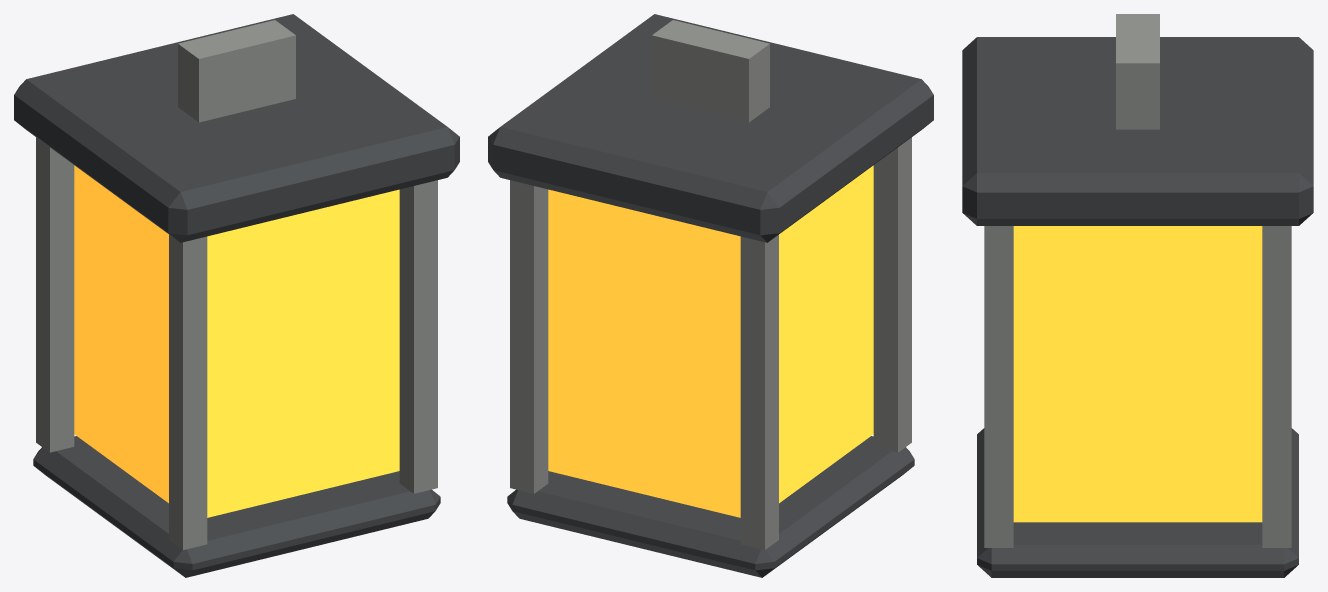
The model's file is lantern.glb.
The picture shows the model from 3 angles, left to right: view 1: azimuth 30°, elevation 25°; view 2: azimuth 150°, elevation 25°; view 3: azimuth 270°, elevation 25°; orthographic projection. The views are drawn at different scales.
Visible parts, largest first — view 1: lantern; view 2: lantern; view 3: lantern.
Boxes of the visible parts, x1,y1,x2,y2 form: lantern: (14,14,459,577); lantern: (488,14,933,577); lantern: (962,14,1313,577).
Size of the model in its own units: 0.24 by 0.36 by 0.24.
